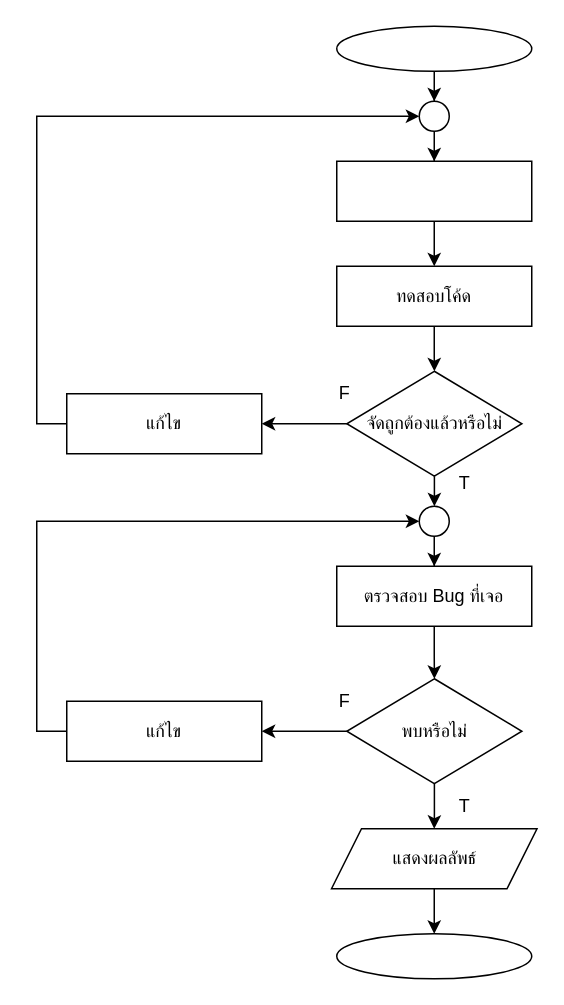
This 564x1005 diagram has some shape labels left out. Here are the shapes that lost their labels. From the top down, the centre of each, then its label:
At pixel 433 48: "Start".
At pixel 433 190: "จัด Codex โค้ด".
At pixel 433 955: "End".
